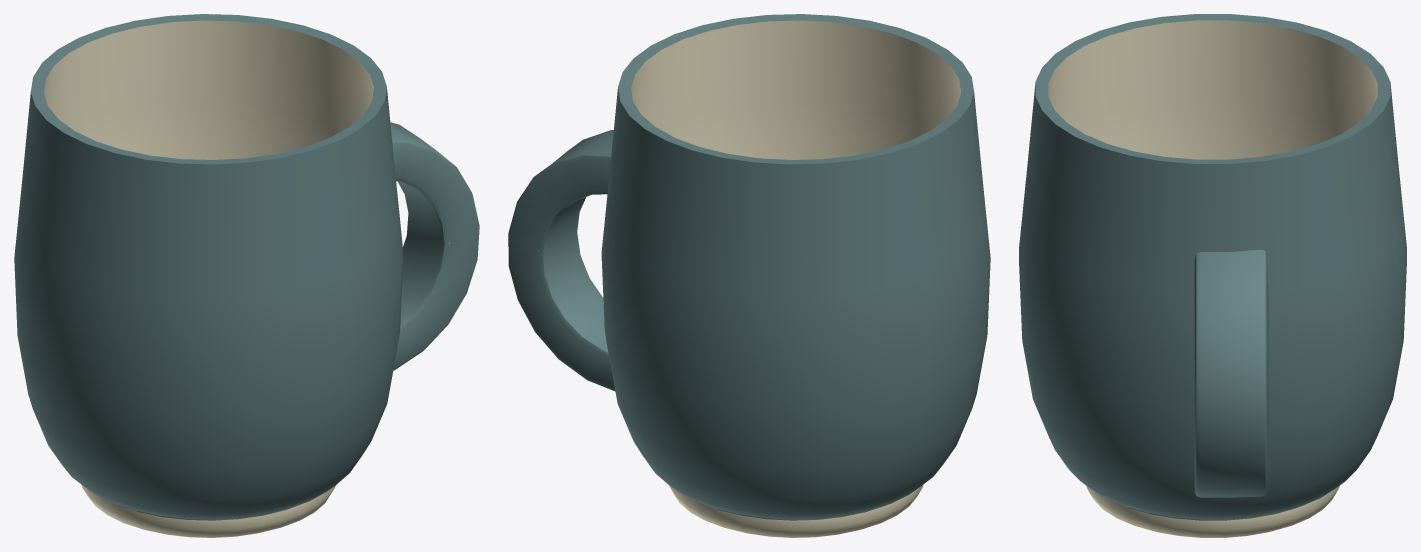
File: Mug.glb
3 views of the same model, side by side, from view 1: azimuth 30°, elevation 25°; view 2: azimuth 150°, elevation 25°; view 3: azimuth 270°, elevation 25° (orthographic).
Parts seen in each view (by area): view 1: Mug; view 2: Mug; view 3: Mug.
Part boxes in pixels (x1,y1,x2,y2): Mug: (14, 14, 479, 537); Mug: (508, 14, 990, 537); Mug: (1019, 14, 1406, 537).
Size of the model in its own units: 0.1152 by 0.1019 by 0.0895.
1 material, 1 textured.
